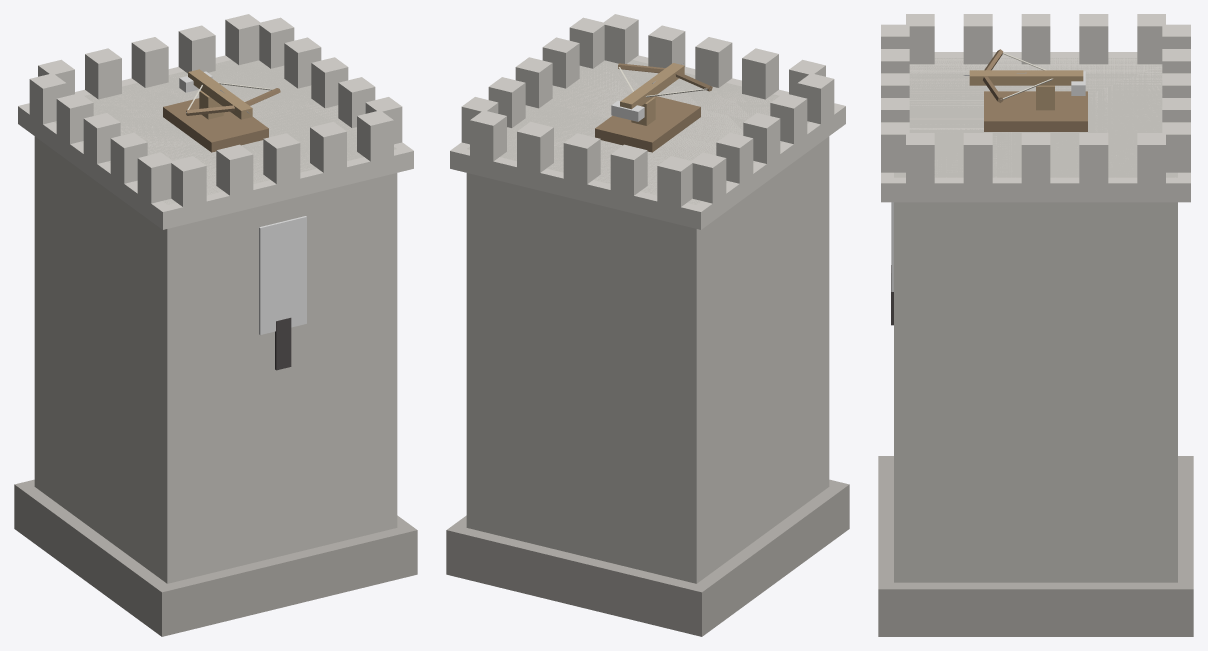
3 renders of one model, left to right at view 1: azimuth 30°, elevation 25°; view 2: azimuth 150°, elevation 25°; view 3: azimuth 270°, elevation 25°, orthographic. The views are drawn at different scales.
Parts seen in each view (by area): view 1: body; view 2: body; view 3: body.
Boxes of the visible parts, left/top/right/bottom form: body: left=14, top=14, right=417, bottom=636; body: left=446, top=14, right=849, bottom=636; body: left=878, top=14, right=1193, bottom=636.
Bounding box in the file's own units: 6 × 10.44 × 6.
